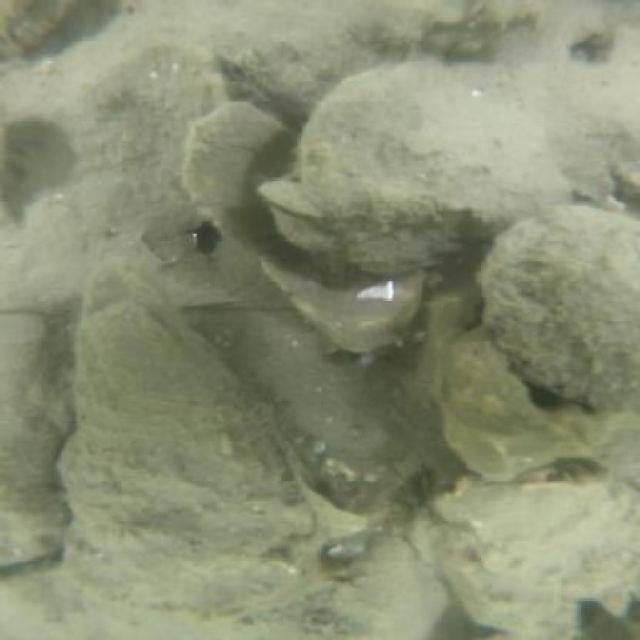Oyster-Closed: (63, 297, 305, 604)
Oyster-Indeterminate: (266, 62, 624, 274), (178, 98, 424, 360), (480, 211, 634, 420), (420, 479, 632, 629), (5, 312, 69, 559), (0, 1, 69, 50)
